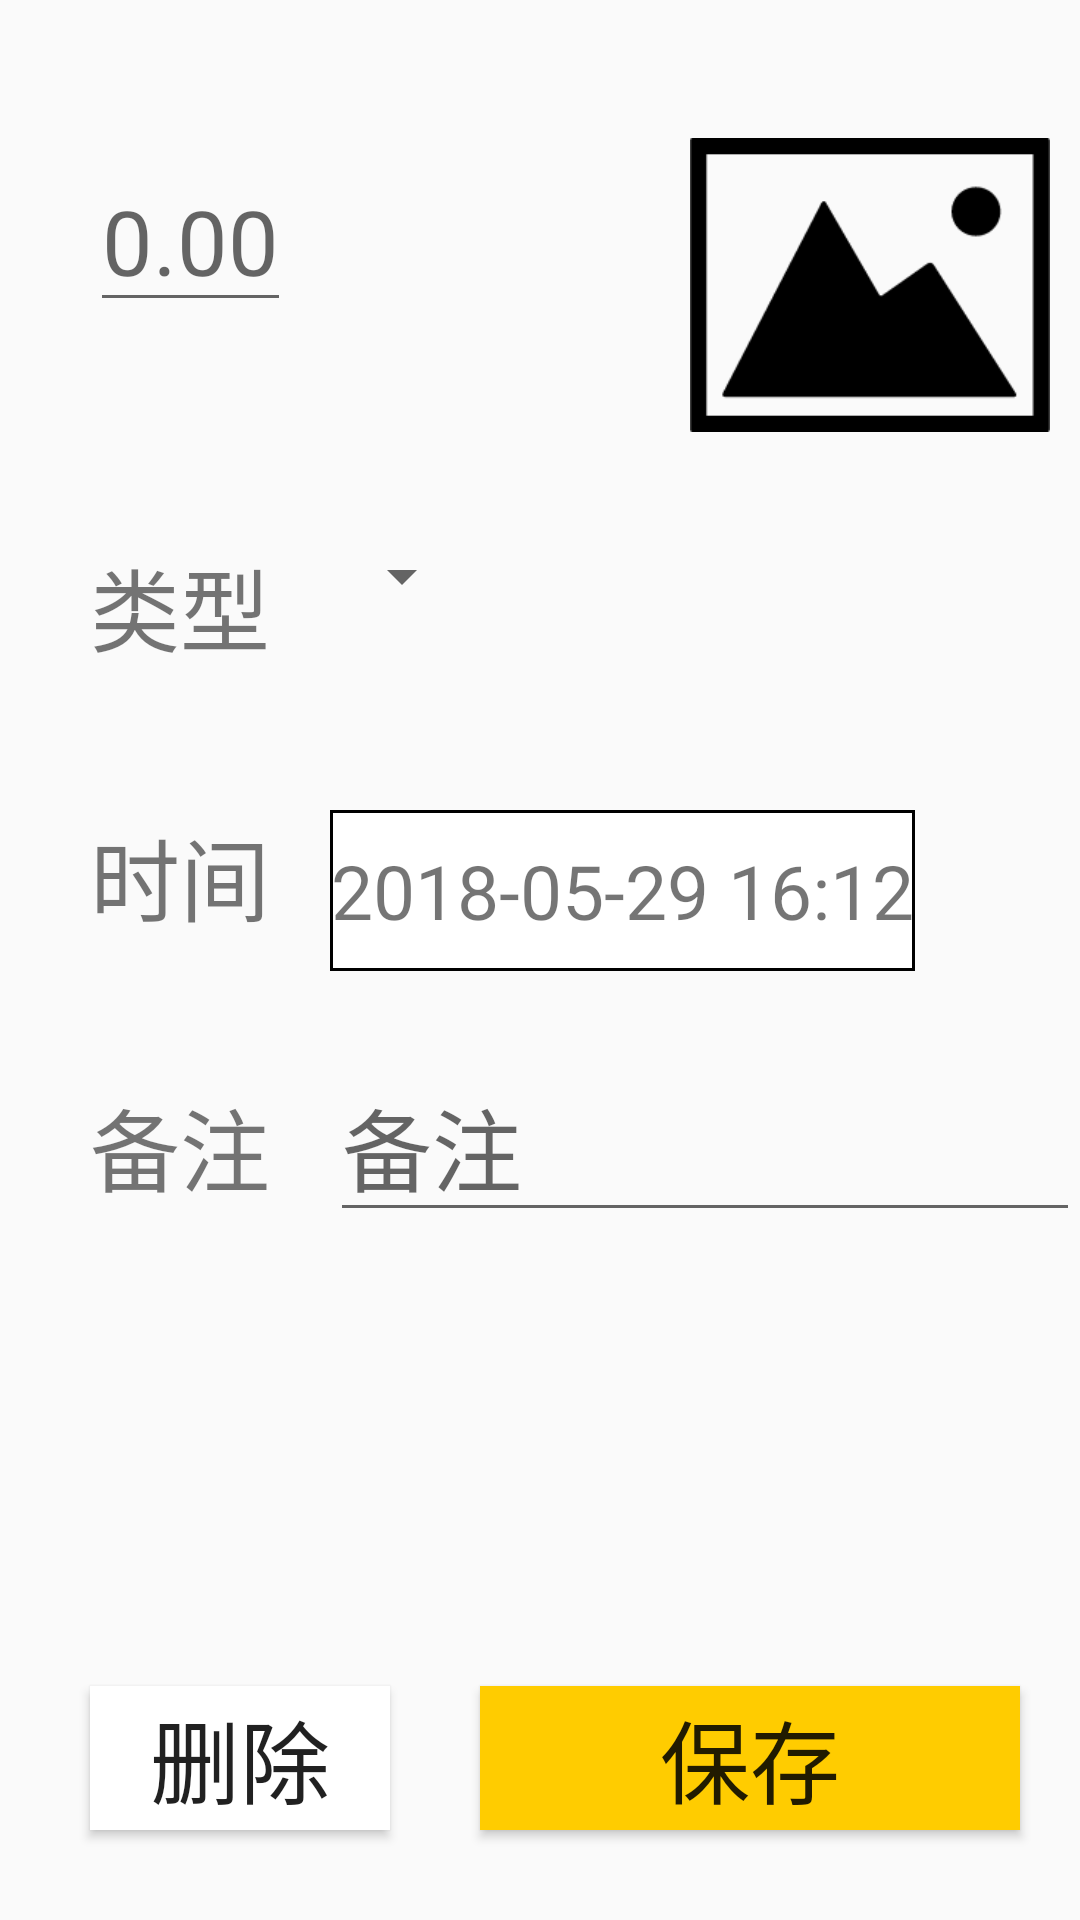

Named icons in this screenshot (1080w x 1920h) and their centers, [x,y]:
photo: [870,285]
